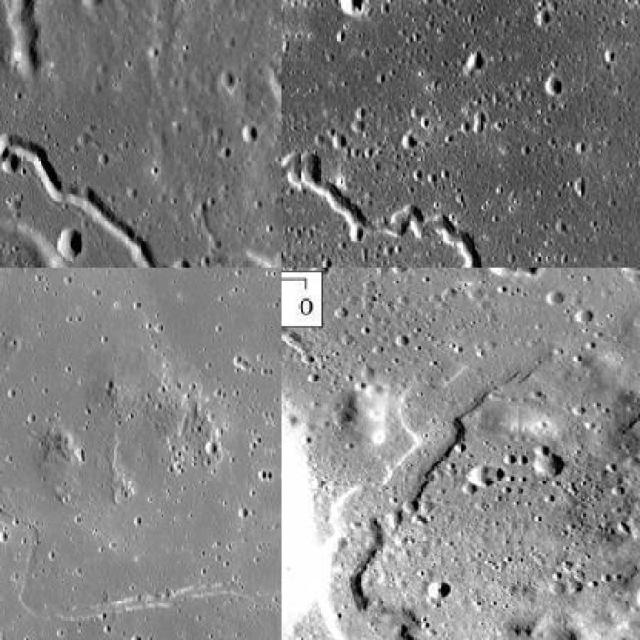rille: (363, 0, 639, 266), (0, 383, 260, 623), (0, 0, 222, 266), (320, 362, 505, 638), (282, 152, 550, 266)
